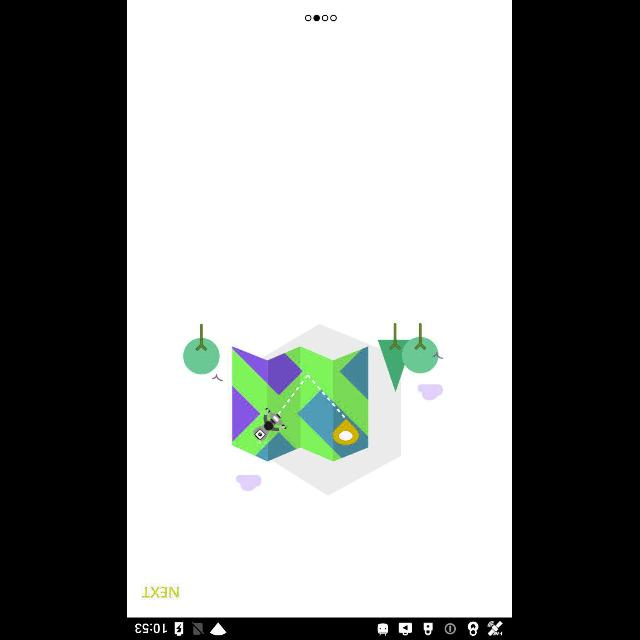image: (184, 322, 444, 496)
pageindicator: (306, 15, 338, 22)
text: (143, 586, 180, 598)
uppertaskbar: (128, 617, 512, 639)
